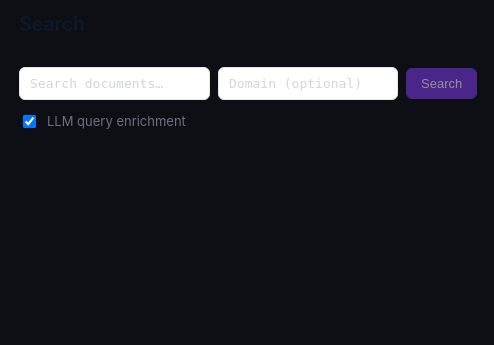
SearchPage › shows enriched query when returned
In the field named "query": coordinates (114, 84) top-left (19, 67), bottom-right (210, 100), type "test"
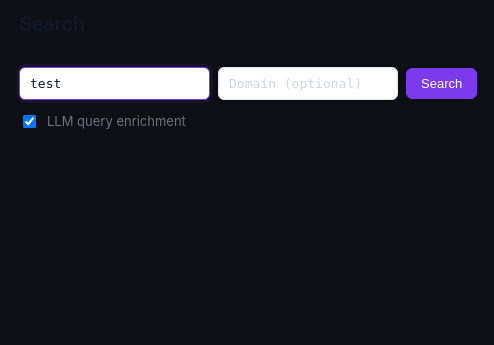
Click the button "Search": coordinates (442, 84) top-left (406, 68), bottom-right (477, 99)
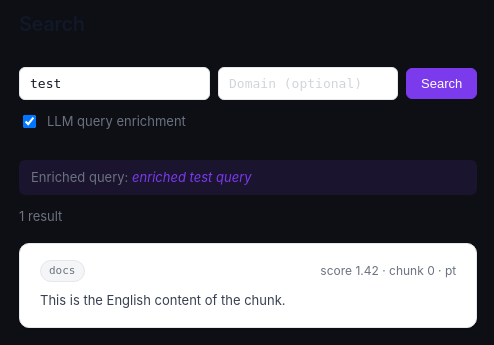
Expected: the text "enriched test query" is shown, top-left (132, 168), bottom-right (252, 184)
